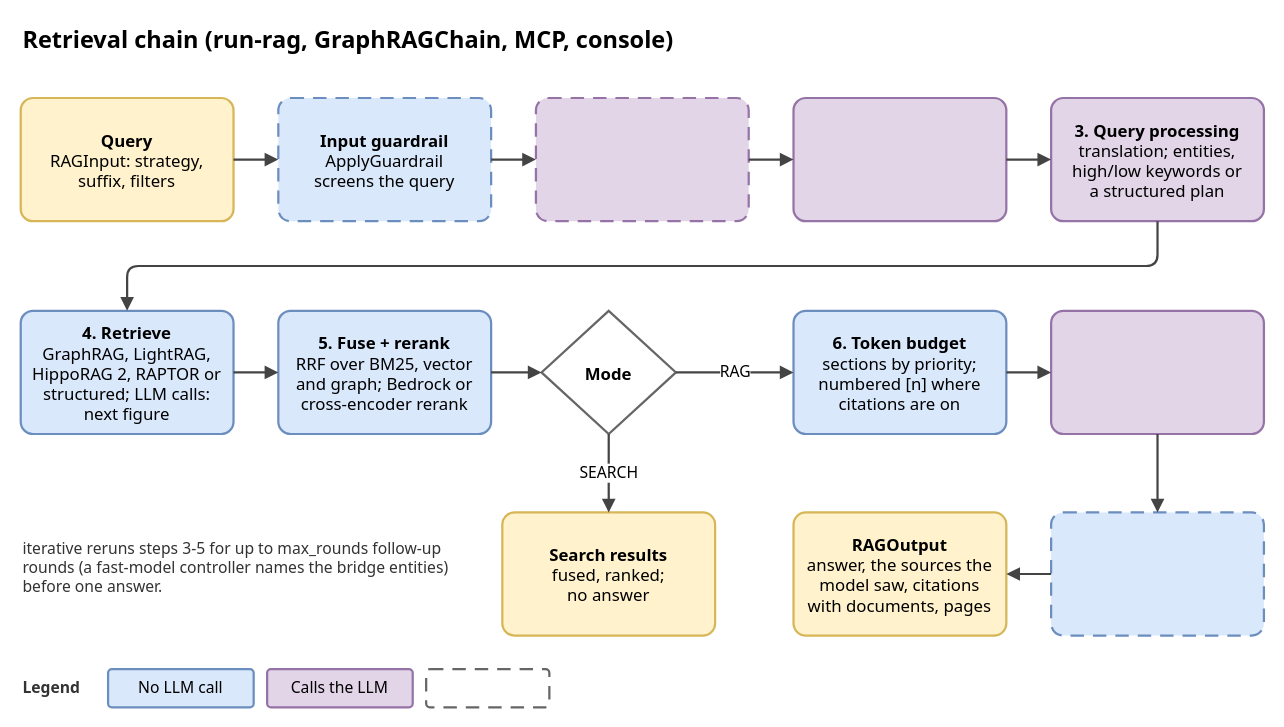
This 1284x727 diagram has some shape labels left out. Here are the shapes that lost their labels. From the top down, the box of each, then its label:
(534, 96, 749, 222): 1. Memory rewrite a follow-up as a standalone question
(792, 96, 1007, 222): 2. Strategy auto: an LLM router among the methodologies the namespace holds
(1049, 309, 1264, 435): 7. Answer cites [n]; no LLM call when the context is empty
(1049, 511, 1264, 636): Output guardrail screens the answer; optional grounding check
(424, 668, 550, 708): Optional
